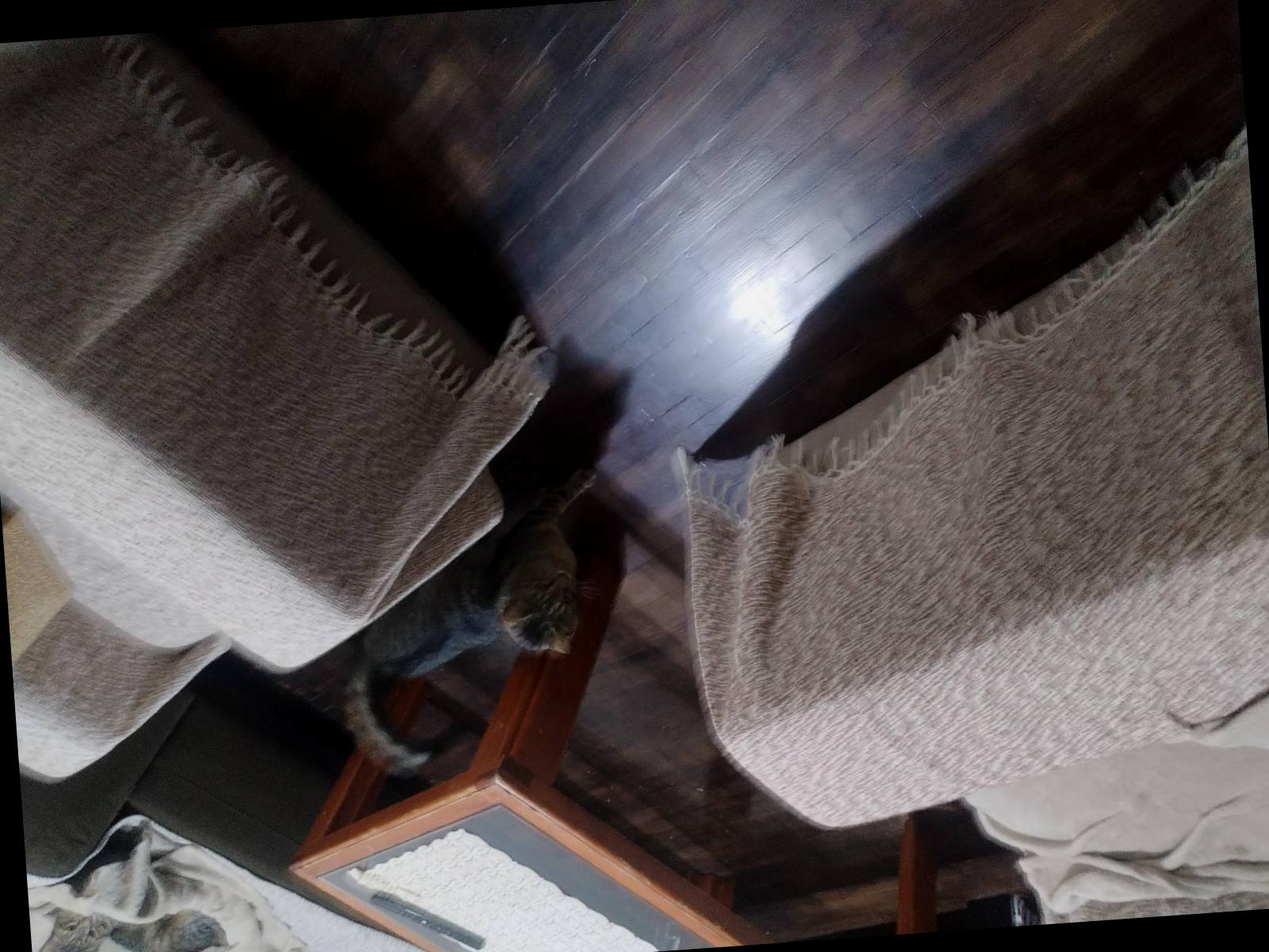macka: (322, 451, 623, 783)
